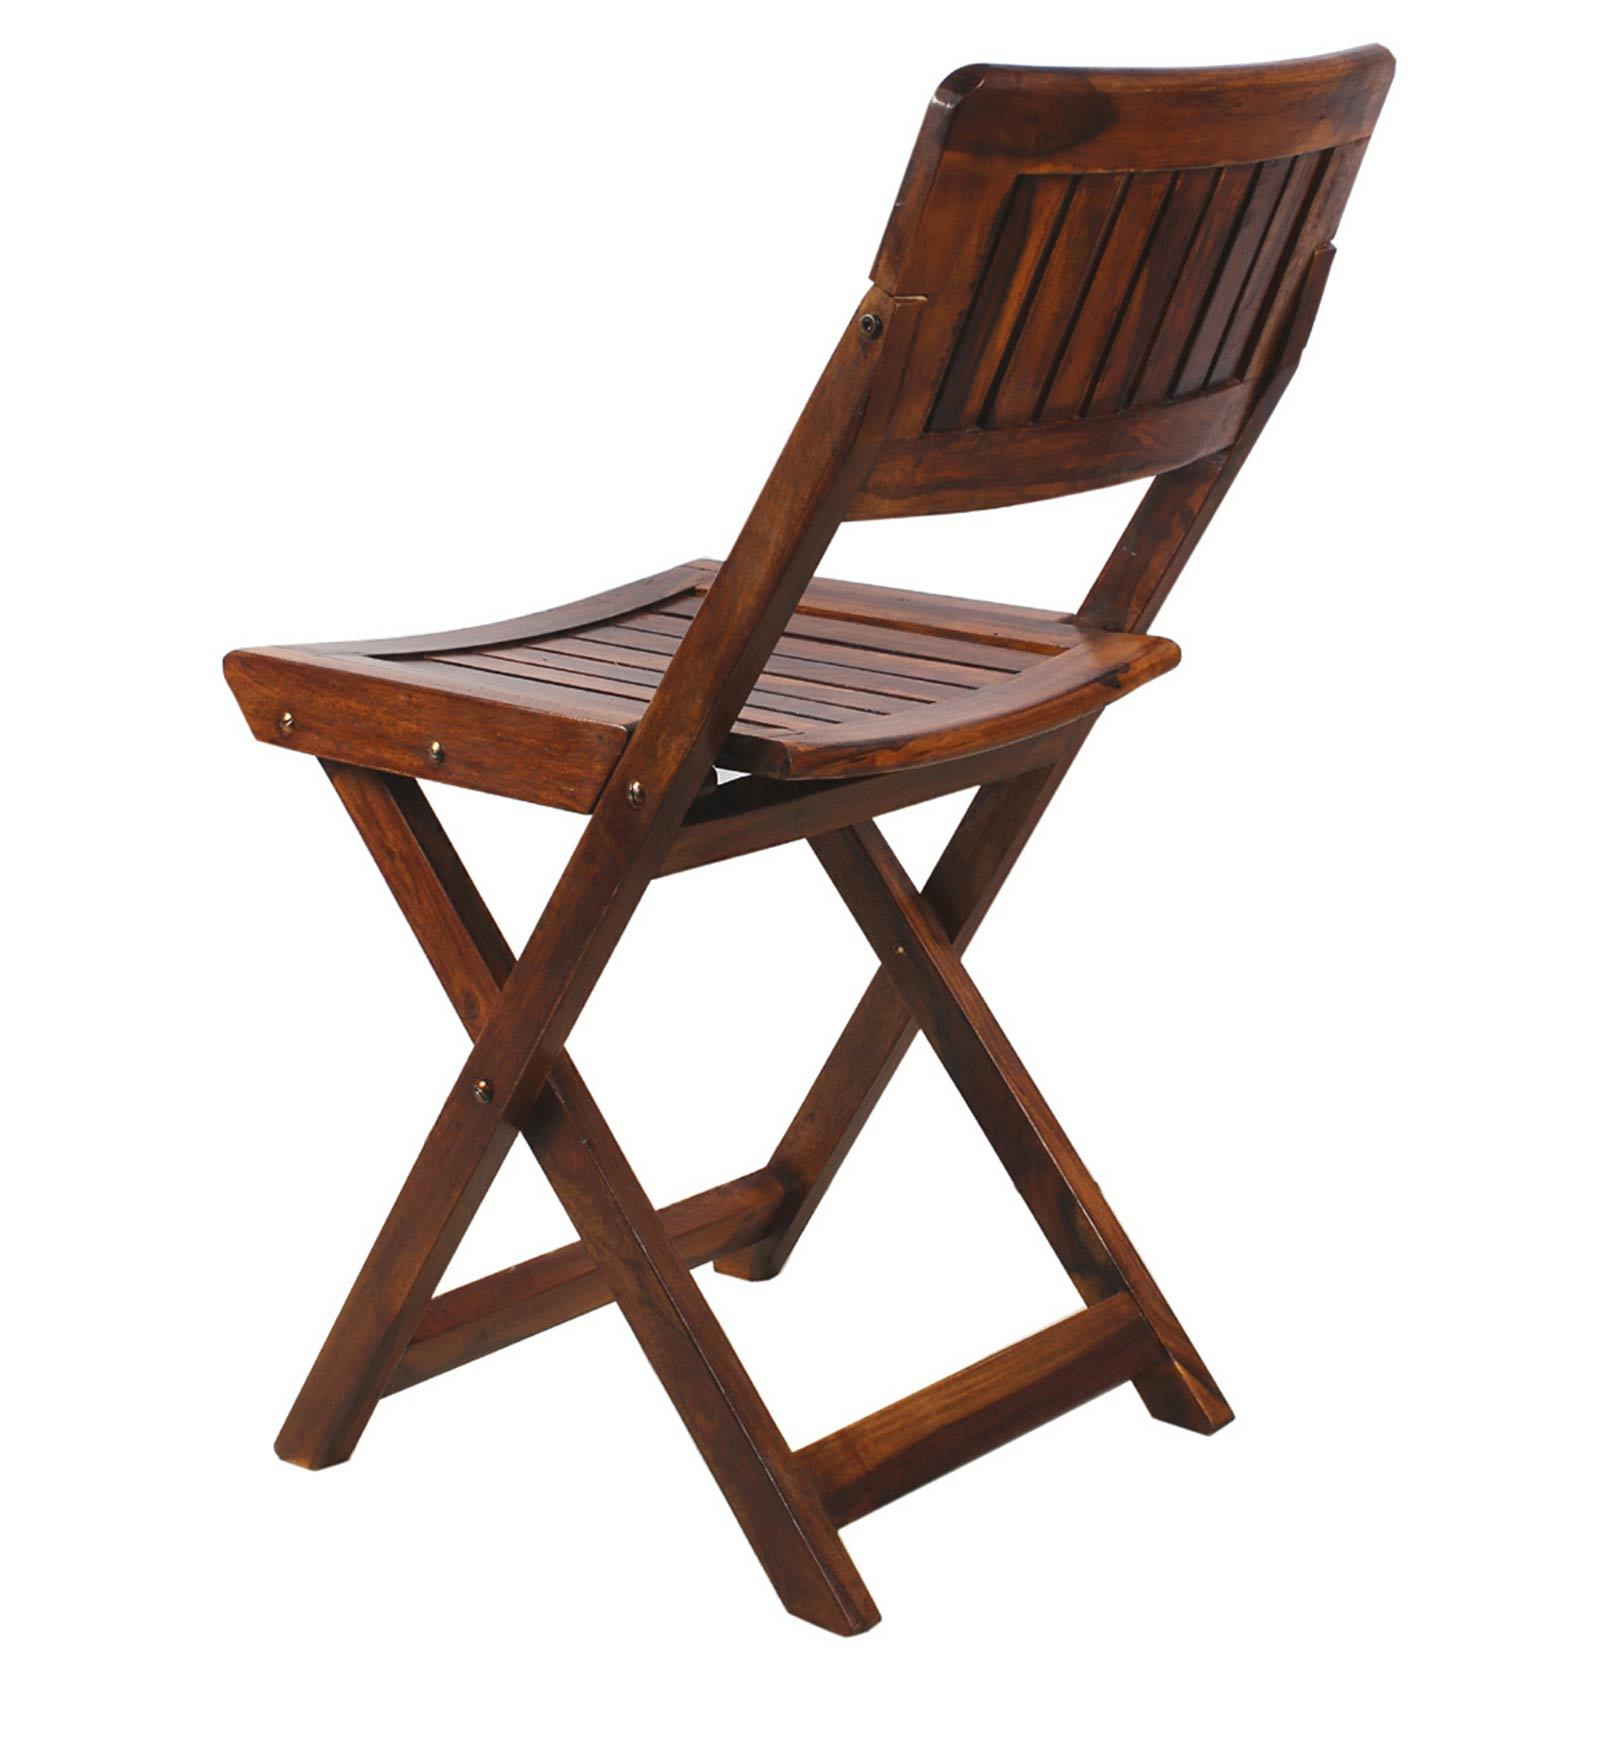Sheesham Wood Folding Chair in Walnut Finish by VarEesha: (106, 34, 1448, 1663)
